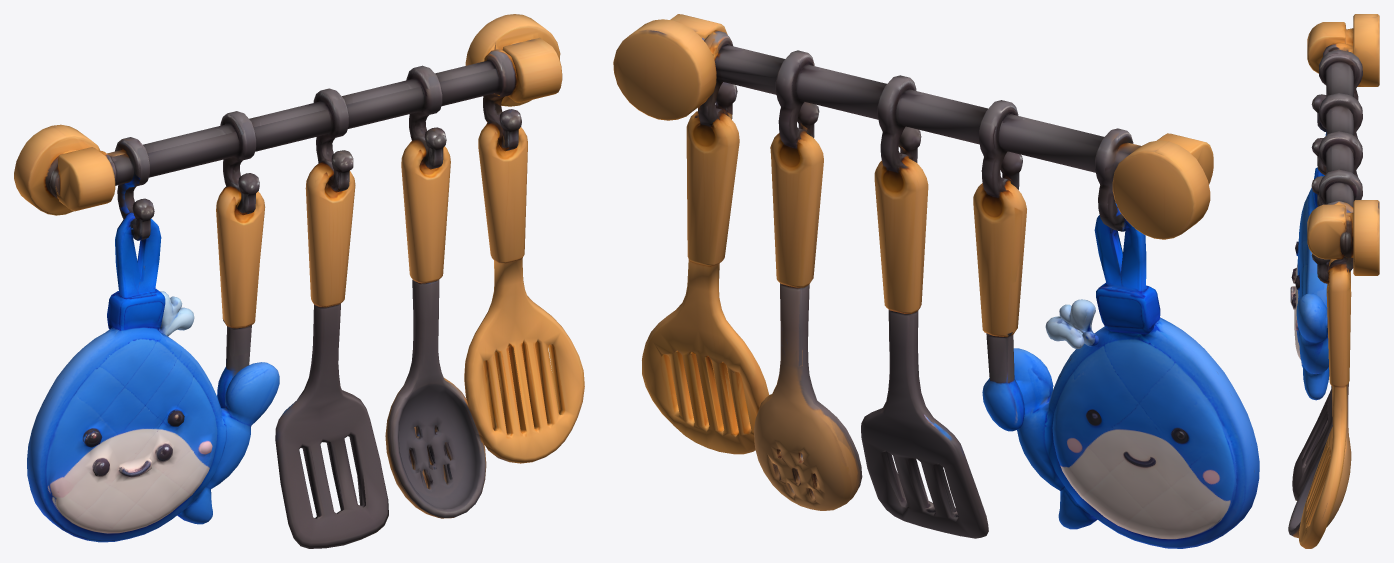
File: black-utensil-rail.glb
3 views of the same model, side by side, from view 1: azimuth 30°, elevation 25°; view 2: azimuth 150°, elevation 25°; view 3: azimuth 270°, elevation 25° (orthographic). The views are drawn at different scales.
Visible parts, largest first — view 1: black_utensil_rail_mesh; view 2: black_utensil_rail_mesh; view 3: black_utensil_rail_mesh.
Boxes of the visible parts, <box> form: black_utensil_rail_mesh: <box>14,14,584,548</box>; black_utensil_rail_mesh: <box>613,14,1259,548</box>; black_utensil_rail_mesh: <box>1288,14,1379,548</box>.
Bounding box in the file's own units: 0.82 × 0.6251 × 0.1384.
1 material, 1 textured.
